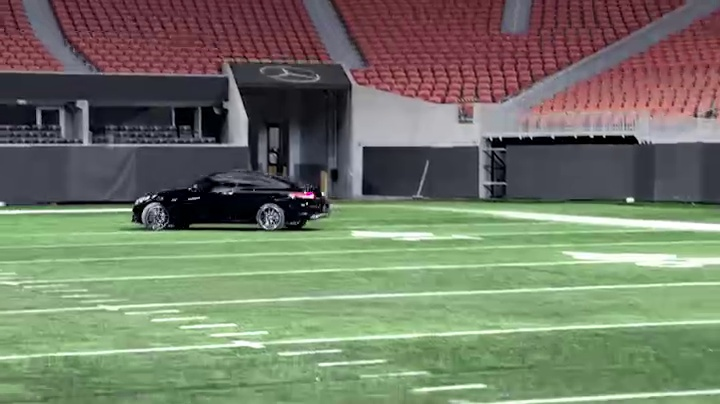amg: (129, 170, 332, 236)
